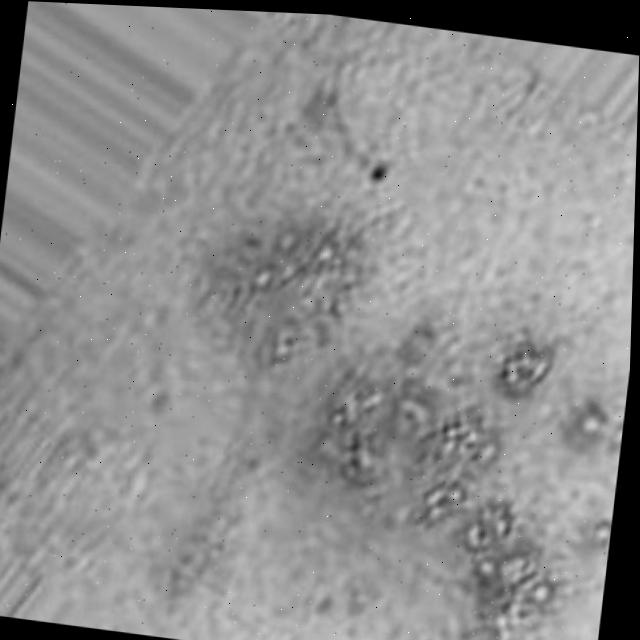Shingles: (165, 189, 635, 640)
